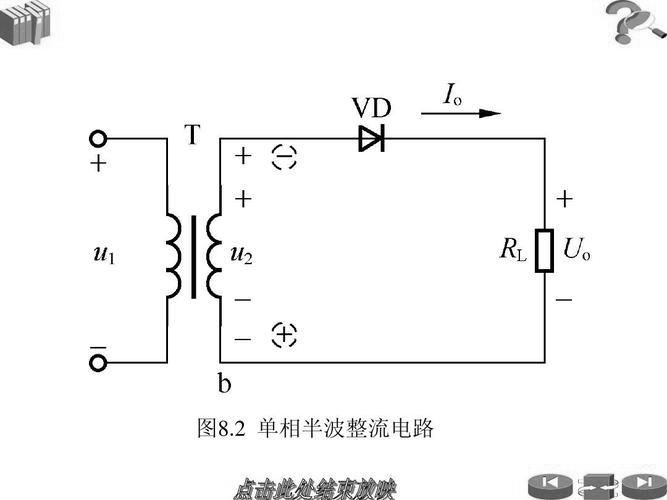diode: (356, 121, 387, 158)
res1: (531, 226, 556, 277)
trans: (159, 200, 232, 312)
